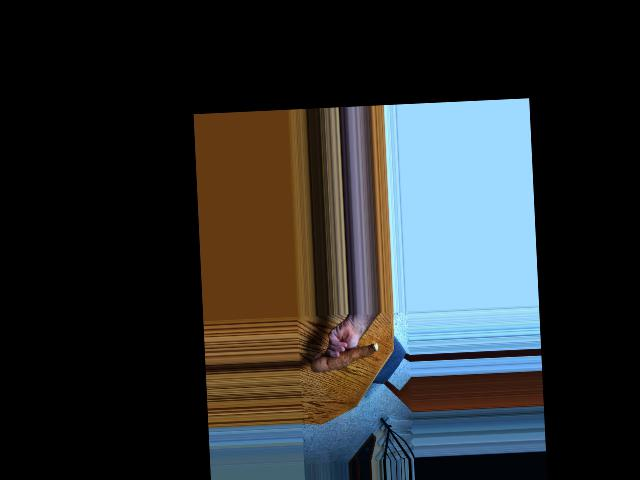sweet_potato: (311, 340, 381, 375)
